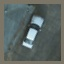car: (20, 12, 45, 51)
